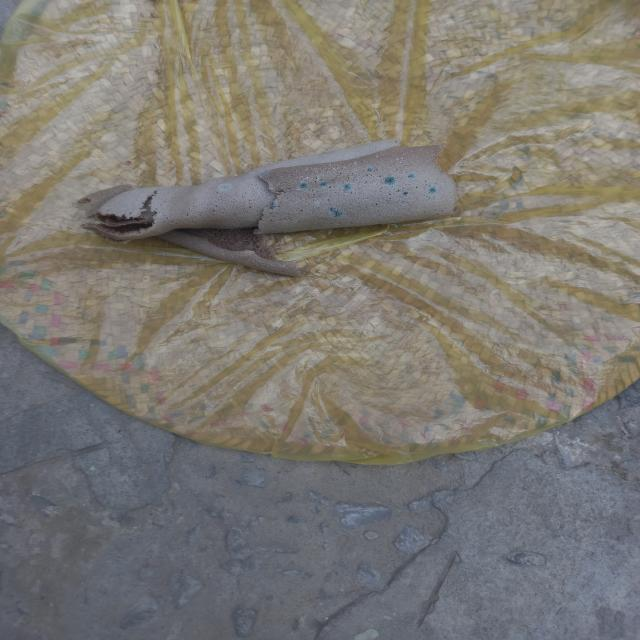injera_mold: (328, 206, 344, 218), (310, 199, 322, 209), (218, 184, 233, 191), (386, 176, 395, 187), (270, 200, 278, 211), (259, 171, 270, 178), (344, 182, 352, 191), (299, 182, 308, 190), (366, 167, 375, 174), (319, 181, 328, 188), (428, 186, 437, 193), (401, 191, 409, 198), (266, 183, 274, 190), (406, 173, 414, 179), (302, 175, 311, 180), (244, 251, 254, 255), (313, 168, 320, 172), (281, 264, 287, 268), (328, 163, 333, 167), (332, 167, 336, 171), (292, 172, 296, 176), (295, 168, 299, 172), (277, 183, 282, 186), (322, 155, 329, 157), (375, 155, 379, 158), (354, 162, 358, 165), (396, 157, 399, 161), (305, 167, 308, 171), (324, 166, 327, 170), (399, 162, 403, 164), (401, 157, 403, 160), (338, 167, 340, 170), (344, 164, 346, 166), (299, 173, 300, 174)
